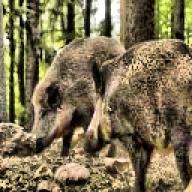boar: (82, 36, 192, 192), (28, 33, 124, 156)
